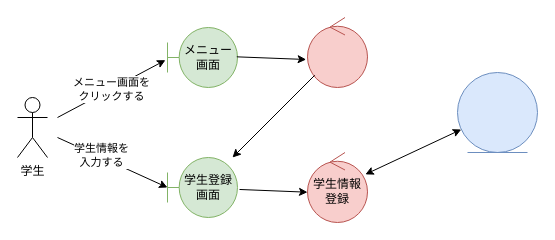
Image size: 555x240. Some labels were removed from this diagram. The box of each missing label's shape, as (x1, y1, x2, y2) in pixels:
学生 オブジェクト: (456, 72, 538, 152)
表示する: (306, 16, 368, 88)
